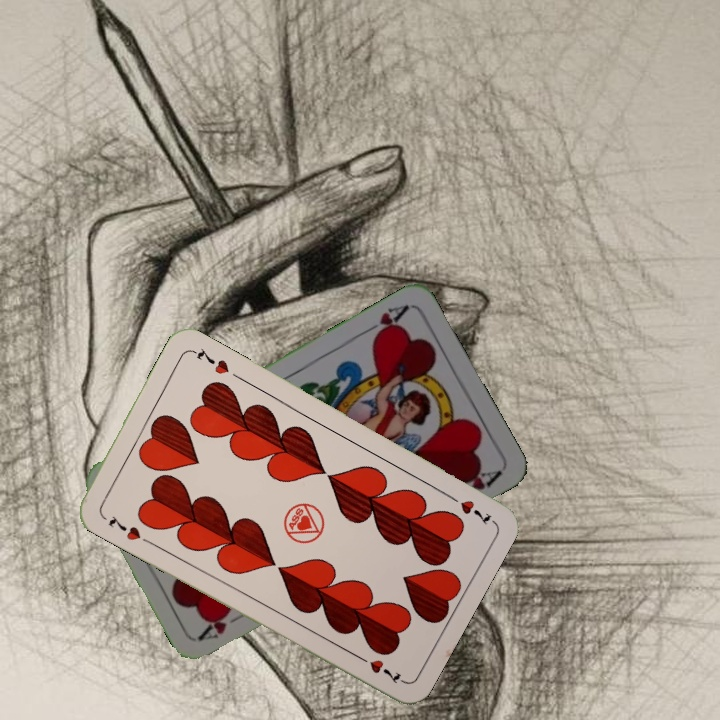H7: (442, 489, 494, 528), (104, 511, 144, 543)
HA: (357, 300, 411, 343), (195, 605, 251, 643)
